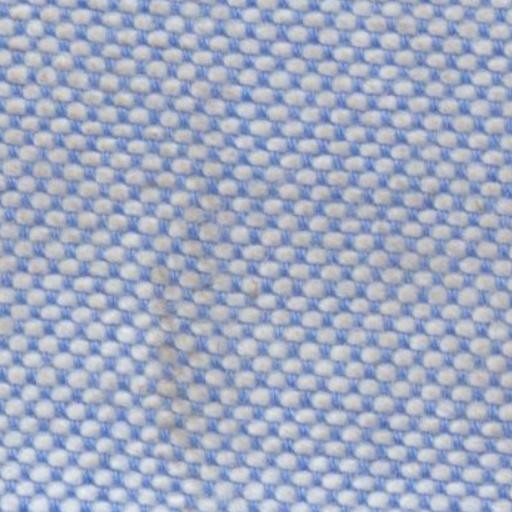WuZi: (2, 54, 502, 467)
